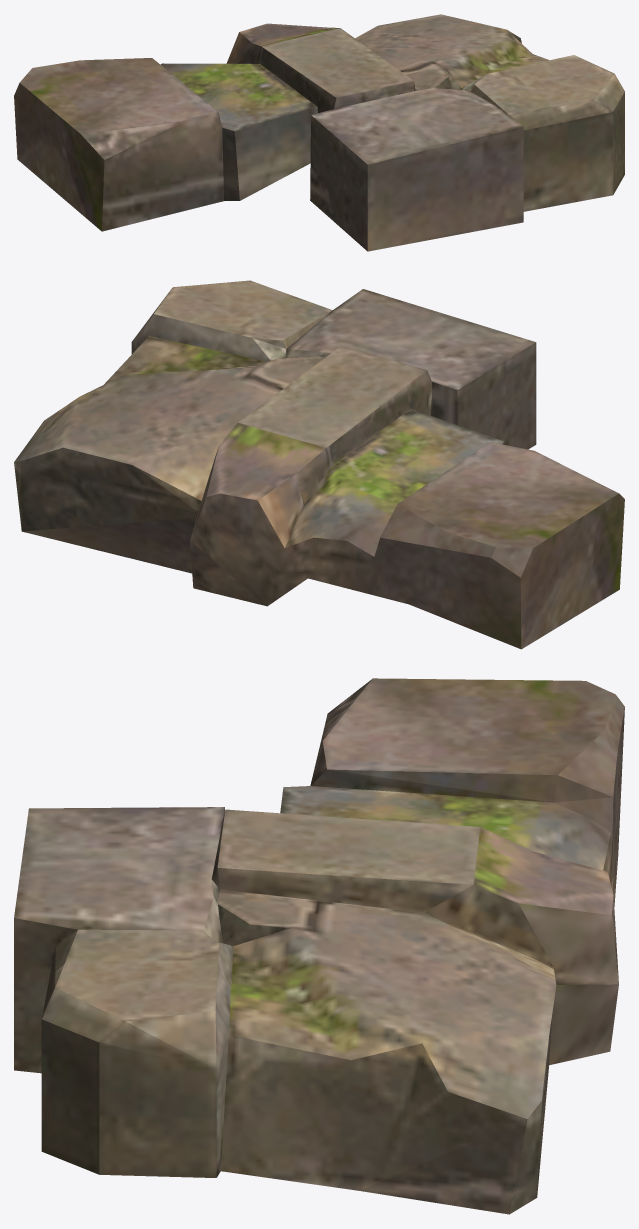
The model's file is xinshoubujian9.FBX.
3 renders of one model, top to bottom at view 1: azimuth 30°, elevation 25°; view 2: azimuth 150°, elevation 25°; view 3: azimuth 270°, elevation 25°, orthographic. The views are drawn at different scales.
Parts seen in each view (by area): view 1: Mesh_0085; view 2: Mesh_0085; view 3: Mesh_0085.
Boxes of the visible parts, x1,y1,x2,y2 form: Mesh_0085: (14, 14, 624, 251); Mesh_0085: (14, 280, 624, 649); Mesh_0085: (14, 678, 624, 1214).
Size of the model in its own units: 8.66 by 2.34 by 6.22.
